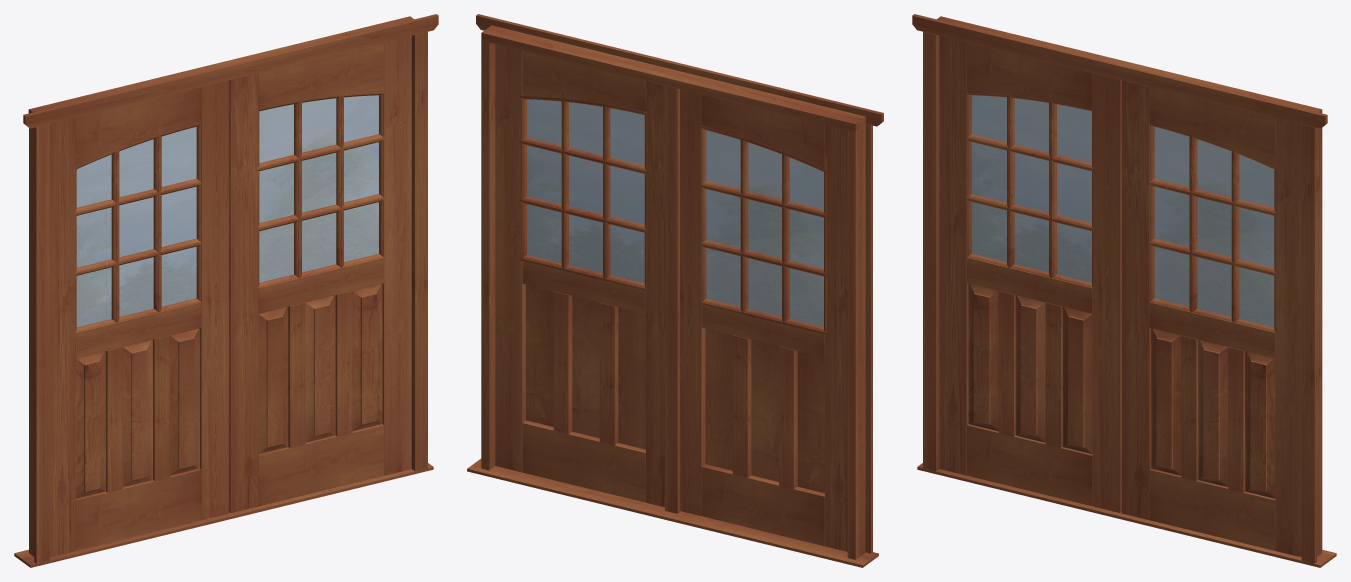
3 renders of one model, left to right at view 1: azimuth 30°, elevation 25°; view 2: azimuth 150°, elevation 25°; view 3: azimuth 330°, elevation 25°, orthographic.
Visible parts, largest first — view 1: glass, glass001, door_right001, door_right, door_left001, door_left, trim_left, trim_right, trim_top, door_bottom, door_bottom001, door_top (+29 smaller); view 2: glass001, glass, door_left001, door_right, door_left, box_left, door_right001, box_top, door_bottom, door_bottom001, box_right, astragal (+30 smaller); view 3: glass001, glass, door_right, door_right001, door_left, door_left001, trim_right, trim_left, trim_top, door_bottom001, door_bottom, door_top001 (+29 smaller).
Boxes of the visible parts, bbox=[...] form: glass: bbox=[76, 127, 196, 327]; glass001: bbox=[259, 95, 378, 282]; door_right001: bbox=[229, 73, 258, 512]; door_right: bbox=[200, 80, 229, 520]; door_left001: bbox=[382, 35, 411, 475]; door_left: bbox=[49, 117, 75, 556]; trim_left: bbox=[34, 124, 49, 563]; trim_right: bbox=[412, 32, 427, 471]; trim_top: bbox=[23, 14, 438, 128]; door_bottom: bbox=[75, 468, 201, 550]; door_bottom001: bbox=[258, 424, 383, 506]; door_top: bbox=[75, 87, 201, 168]; glass001: bbox=[527, 99, 644, 283]; glass: bbox=[706, 130, 823, 327]; door_left001: bbox=[495, 44, 525, 472]; door_right: bbox=[680, 89, 705, 516]; door_left: bbox=[825, 124, 847, 551]; box_left: bbox=[847, 125, 865, 559]; door_right001: bbox=[646, 81, 664, 507]; box_top: bbox=[481, 25, 865, 131]; door_bottom: bbox=[701, 464, 824, 546]; door_bottom001: bbox=[522, 420, 645, 502]; box_right: bbox=[481, 41, 495, 470]; astragal: bbox=[665, 85, 679, 513]; glass001: bbox=[1154, 127, 1274, 327]; glass: bbox=[972, 95, 1091, 282]; door_right: bbox=[1092, 73, 1121, 512]; door_right001: bbox=[1121, 80, 1150, 520]; door_left: bbox=[939, 35, 968, 475]; door_left001: bbox=[1275, 117, 1301, 557]; trim_right: bbox=[1301, 124, 1316, 563]; trim_left: bbox=[923, 32, 938, 471]; trim_top: bbox=[912, 14, 1327, 128]; door_bottom001: bbox=[1149, 468, 1275, 550]; door_bottom: bbox=[967, 424, 1092, 506]; door_top001: bbox=[1149, 87, 1275, 168].
Bounding box in the file's own units: 79.76 × 83.5 × 5.5.
